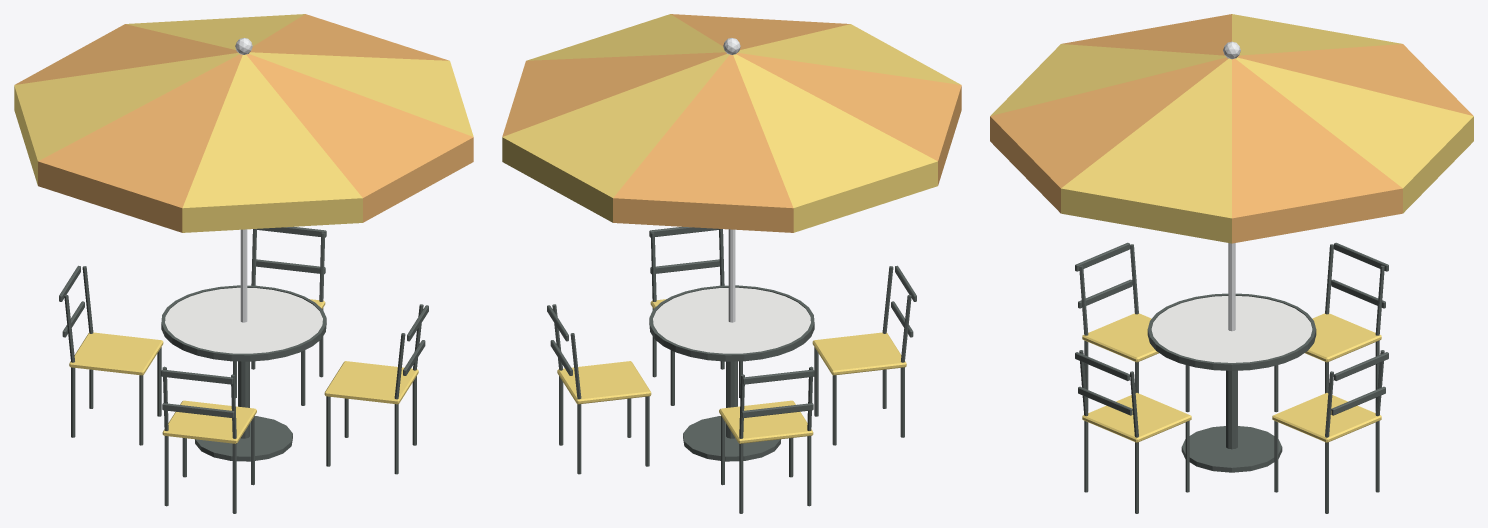
The model's file is umbrella_y.glb.
The picture shows the model from 3 angles, left to right: view 1: azimuth 30°, elevation 25°; view 2: azimuth 150°, elevation 25°; view 3: azimuth 270°, elevation 25°; orthographic projection.
Visible parts, largest first — view 1: umbrella_y_umb_y, umbrella_y_umb_o, umbrella_y_iron, umbrella_y_paint_w, umbrella_y_chrome; view 2: umbrella_y_umb_y, umbrella_y_umb_o, umbrella_y_iron, umbrella_y_paint_w, umbrella_y_chrome; view 3: umbrella_y_umb_y, umbrella_y_umb_o, umbrella_y_iron, umbrella_y_paint_w, umbrella_y_chrome.
Part boxes in pixels (x1,y1,x2,y2): umbrella_y_umb_y: (14,14,473,443); umbrella_y_umb_o: (15,14,473,232); umbrella_y_iron: (59,226,428,513); umbrella_y_paint_w: (165,287,322,353); umbrella_y_chrome: (235,38,252,322); umbrella_y_umb_y: (502,14,960,443); umbrella_y_umb_o: (502,14,961,232); umbrella_y_iron: (547,226,916,513); umbrella_y_paint_w: (653,287,810,353); umbrella_y_chrome: (723,38,740,322); umbrella_y_umb_y: (990,14,1473,442); umbrella_y_umb_o: (990,14,1473,243); umbrella_y_iron: (1075,242,1388,513); umbrella_y_paint_w: (1151,296,1312,362); umbrella_y_chrome: (1223,41,1240,331).
Size of the model in its own units: 2.7 by 2.52 by 2.7.
